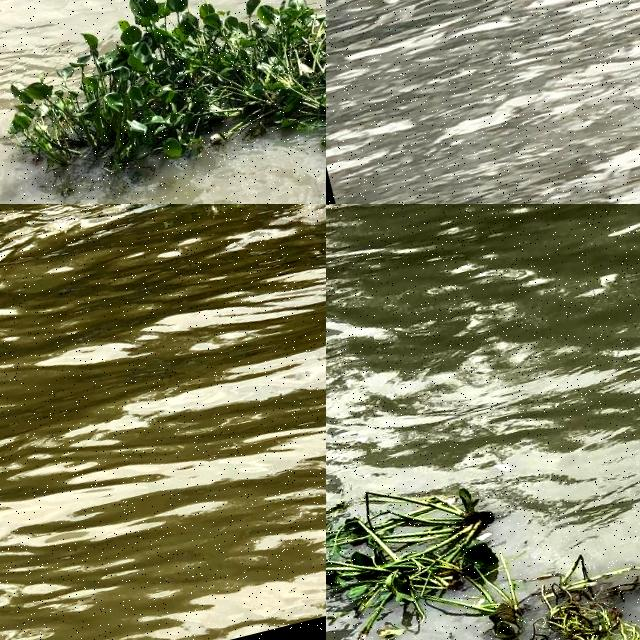water-hyacinth: (327, 423, 640, 640), (1, 1, 327, 205)
